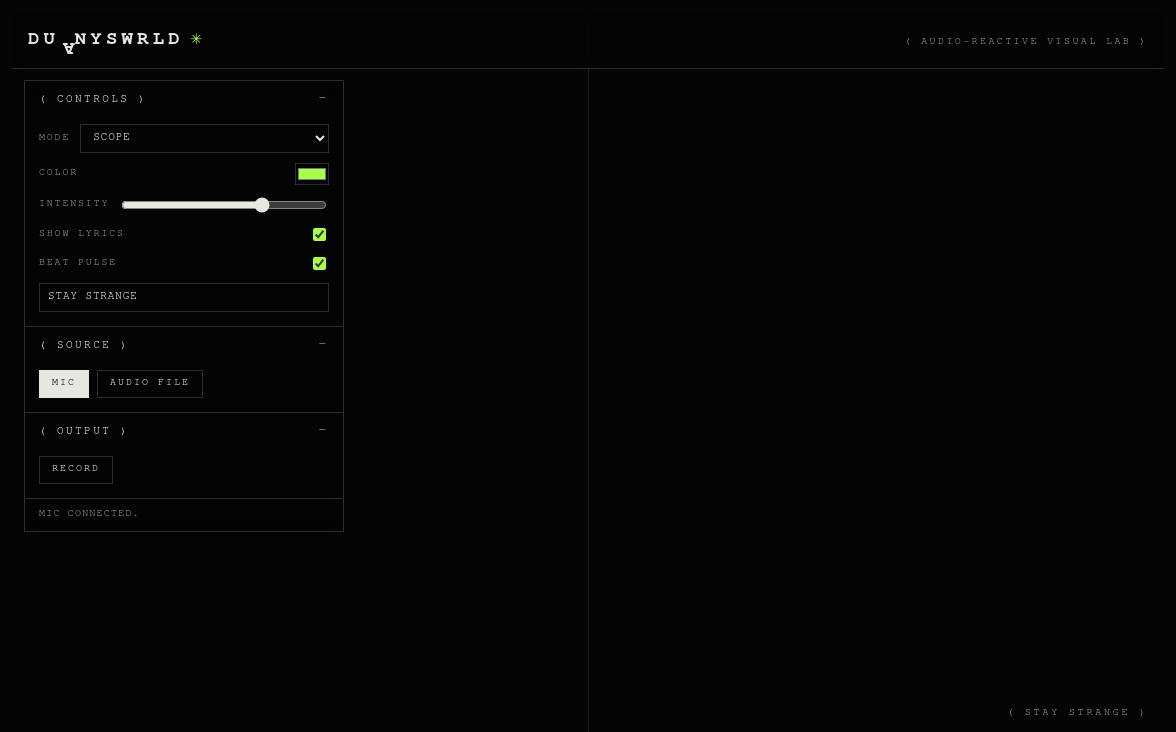
Test case: recording — unsupported environments › reports when the MediaRecorder constructor throws
Click the button "Record": (76, 470) [39, 456, 113, 484]
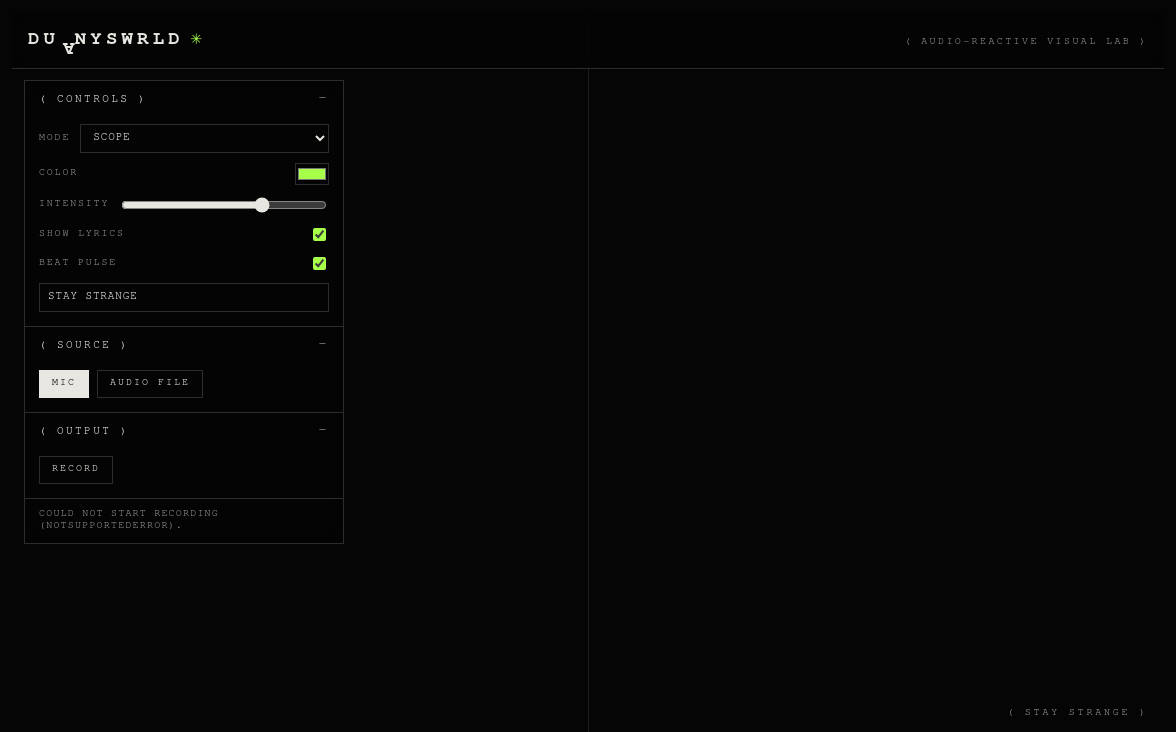
Check: the message reads "Could not start recording (NotSupportedError).", box [39, 510, 219, 532]
